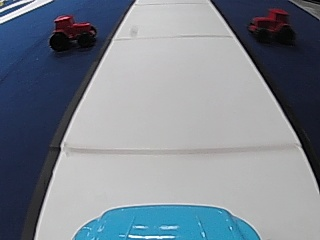tractor: (48, 12, 98, 50), (248, 6, 294, 45)
